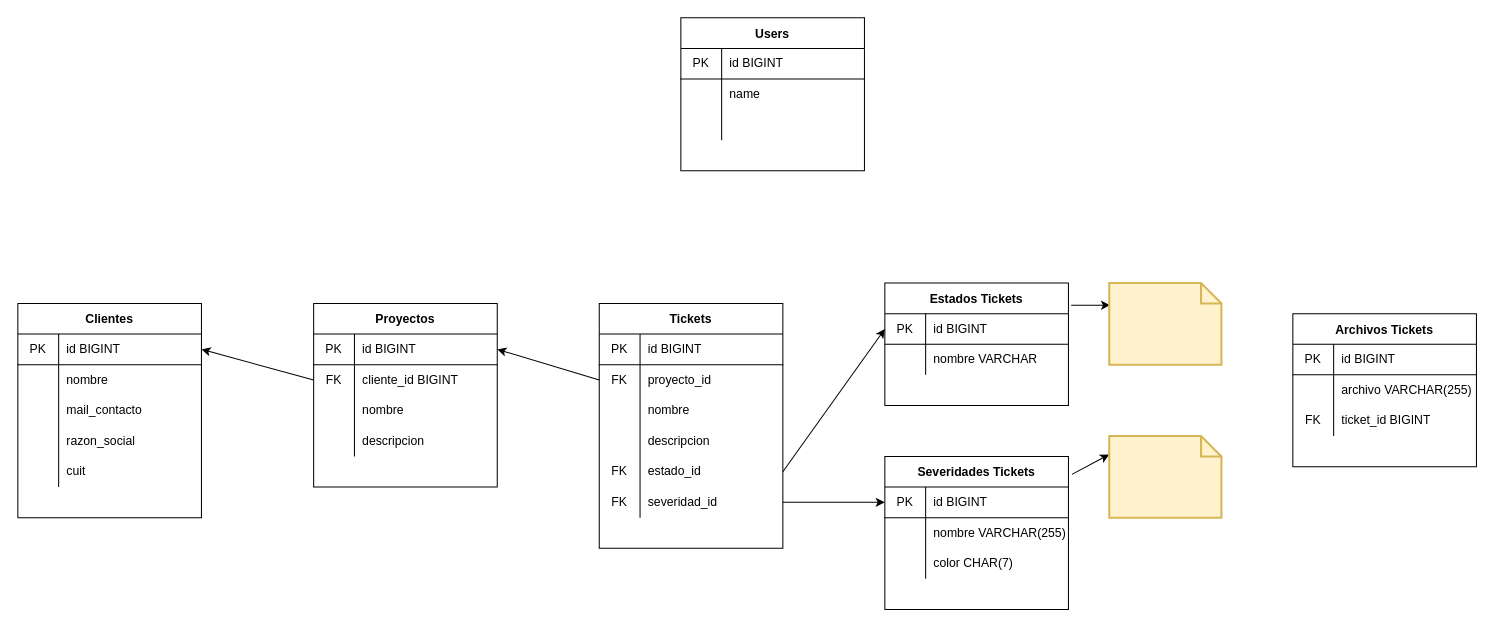
The diagram is 1494 pixels wide and 627 high, and some of its shapes have lost their labels. Here are the shapes that lost their labels. From the top down, the centre of each, then its label:
the point at 1165,323: Abierto En proceso Completado
the point at 1165,476: Baja Media Alta Urgente
